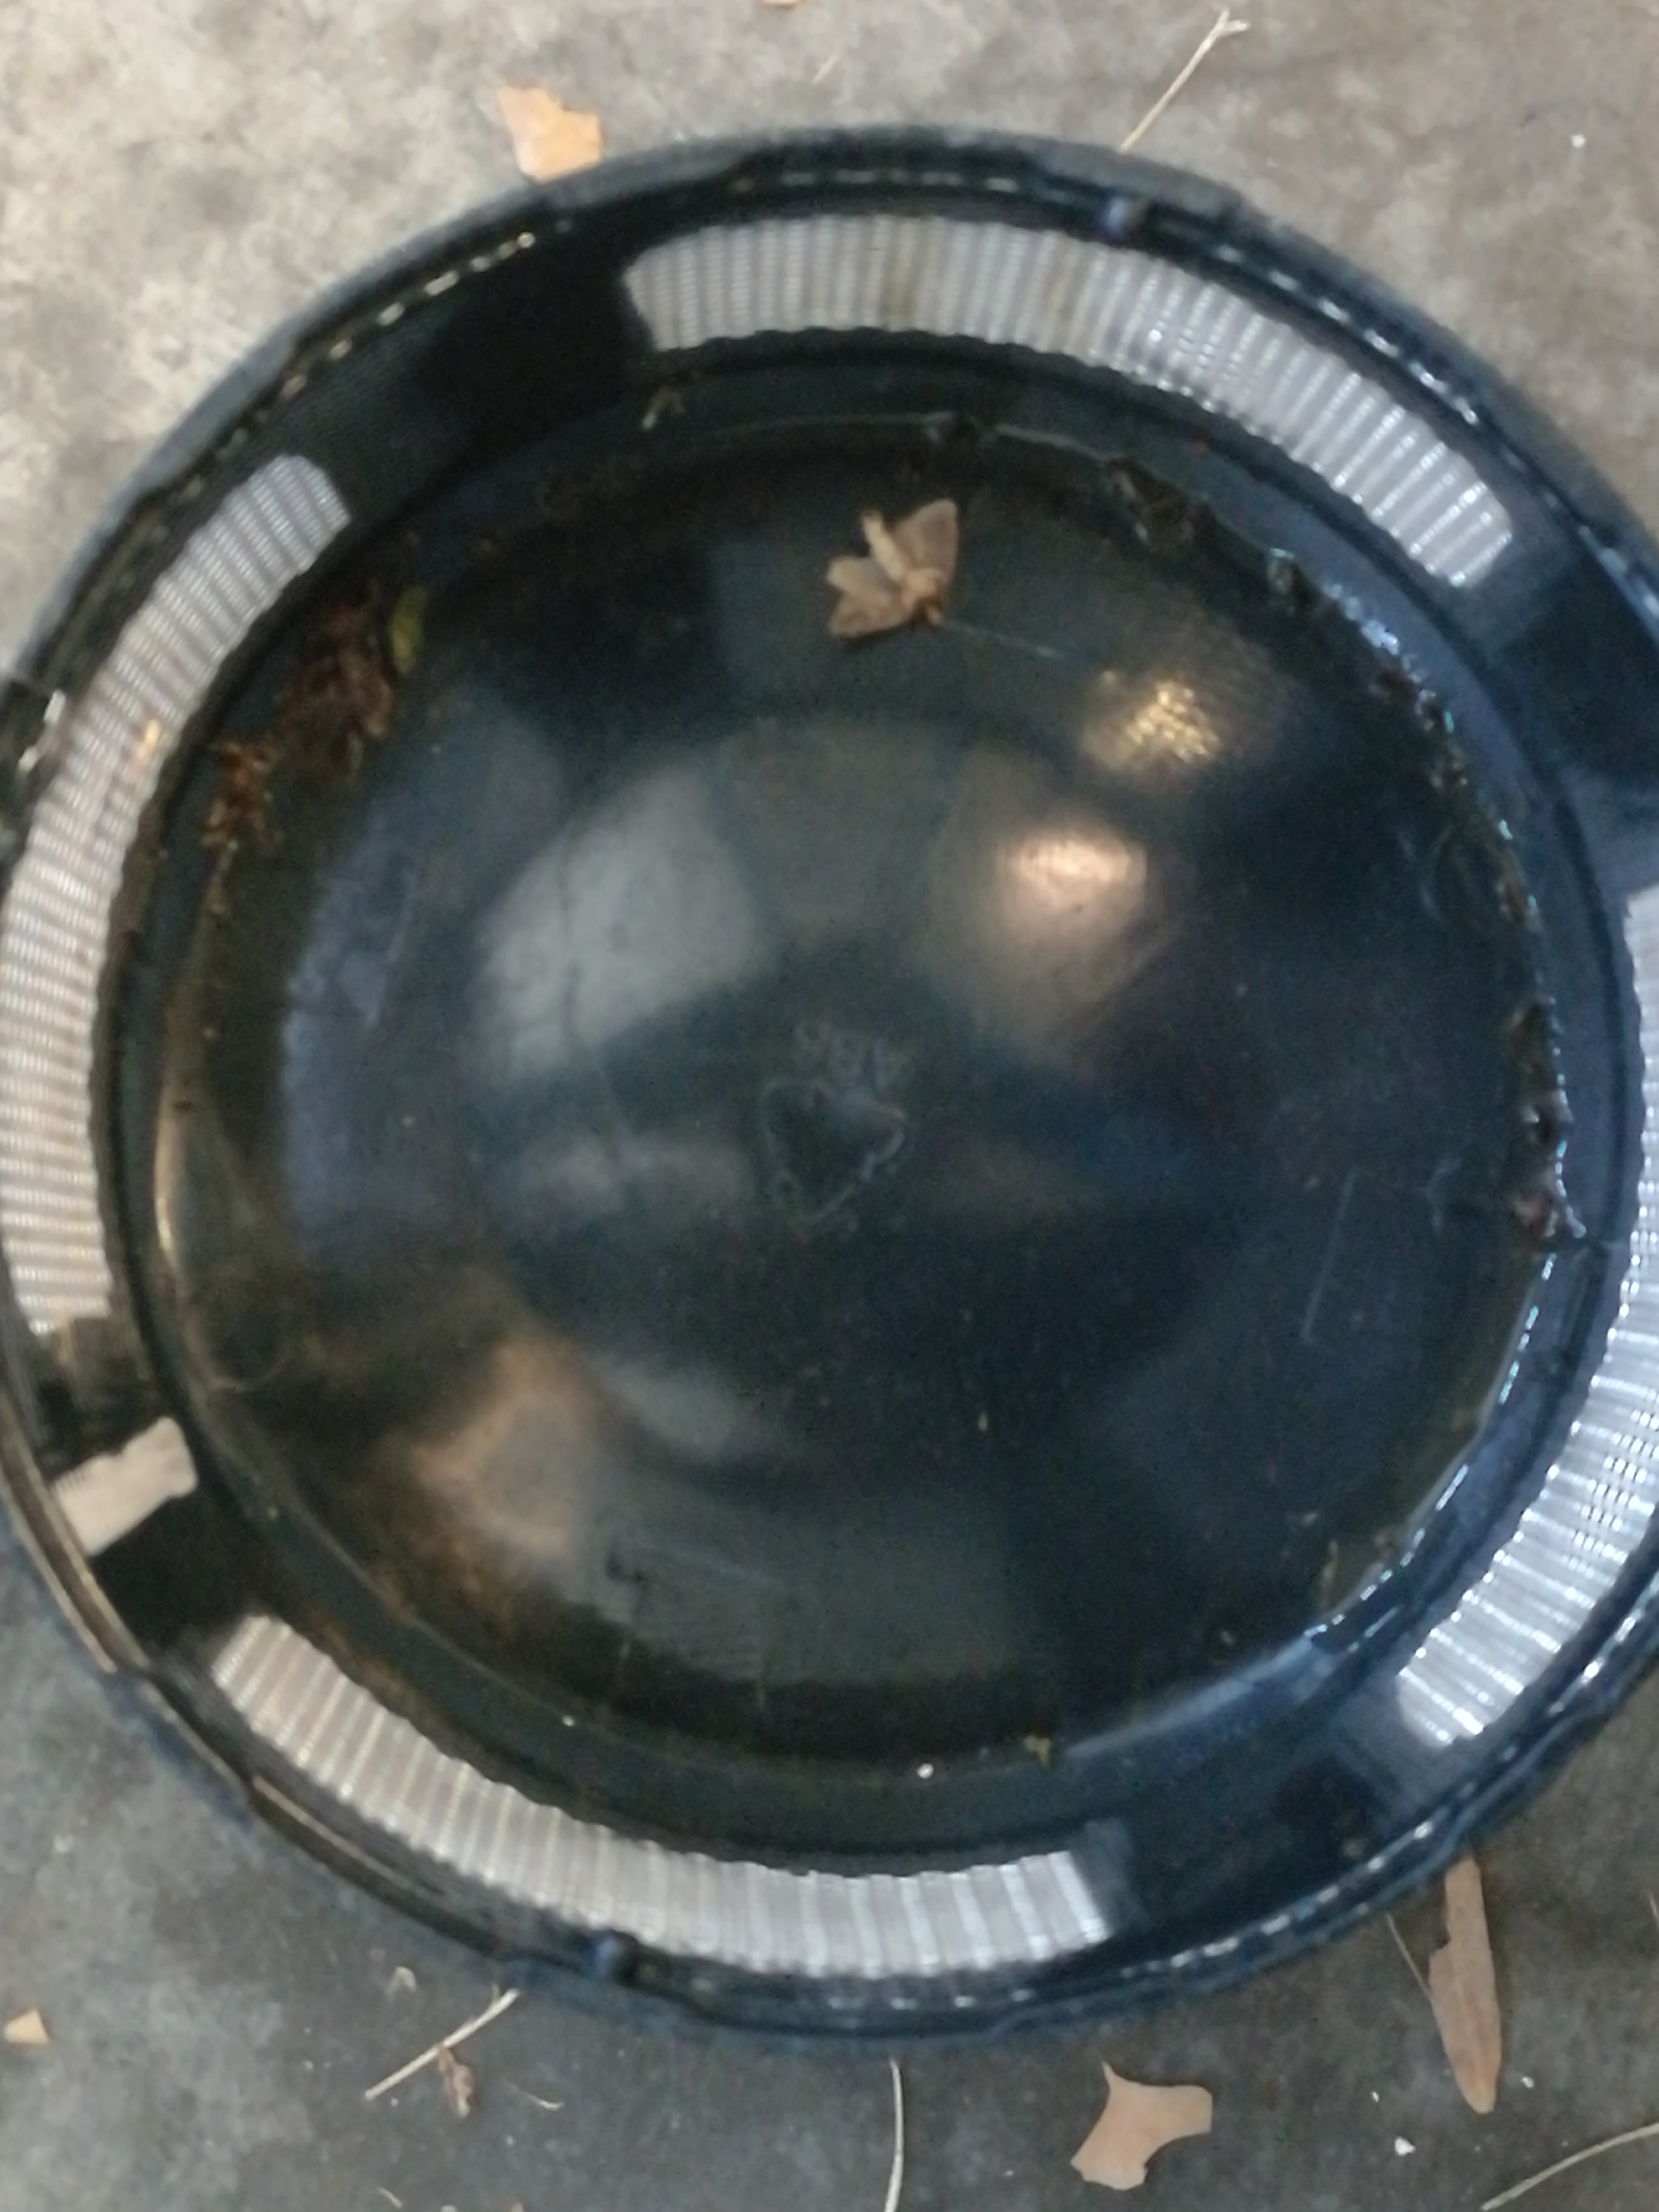moth: (826, 502, 955, 636)
